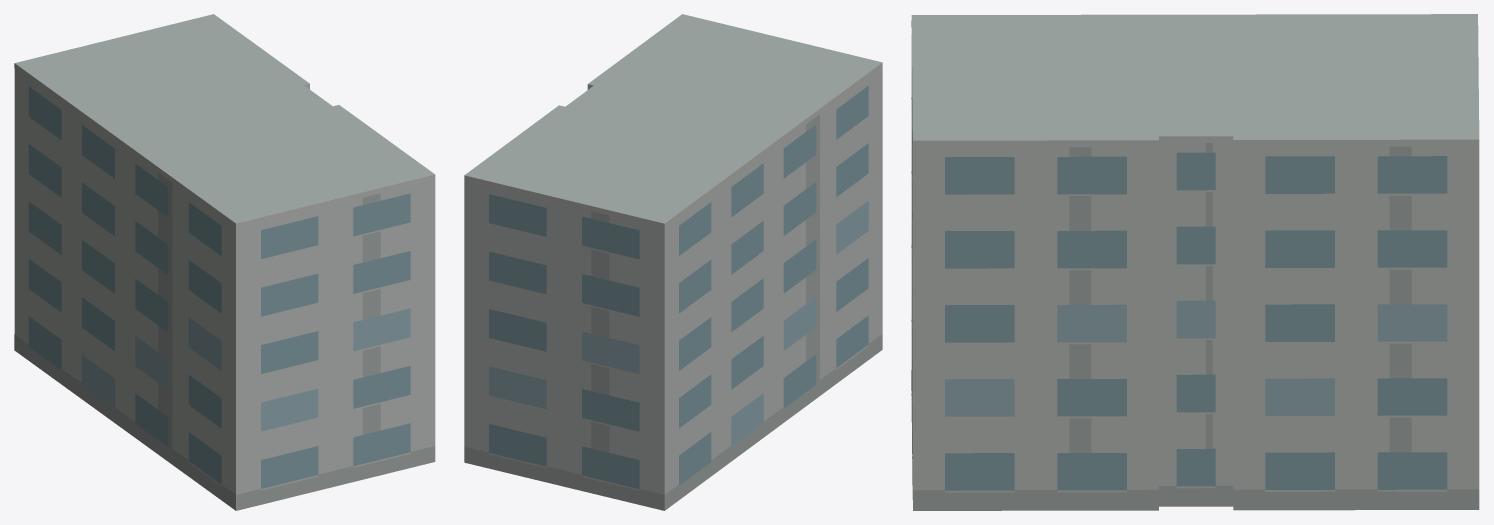
The model's file is survey-upis-32610835.glb.
3 renders of one model, left to right at view 1: azimuth 30°, elevation 25°; view 2: azimuth 150°, elevation 25°; view 3: azimuth 270°, elevation 25°, orthographic. The views are drawn at different scales.
Parts seen in each view (by area): view 1: survey-upis-32610835.tmp; view 2: survey-upis-32610835.tmp; view 3: survey-upis-32610835.tmp.
Boxes of the visible parts, left/top/right/bottom form: survey-upis-32610835.tmp: left=14, top=14, right=435, bottom=510; survey-upis-32610835.tmp: left=464, top=14, right=882, bottom=510; survey-upis-32610835.tmp: left=911, top=14, right=1479, bottom=510.
Bounding box in the file's own units: 9.78 × 13.3 × 18.5.
